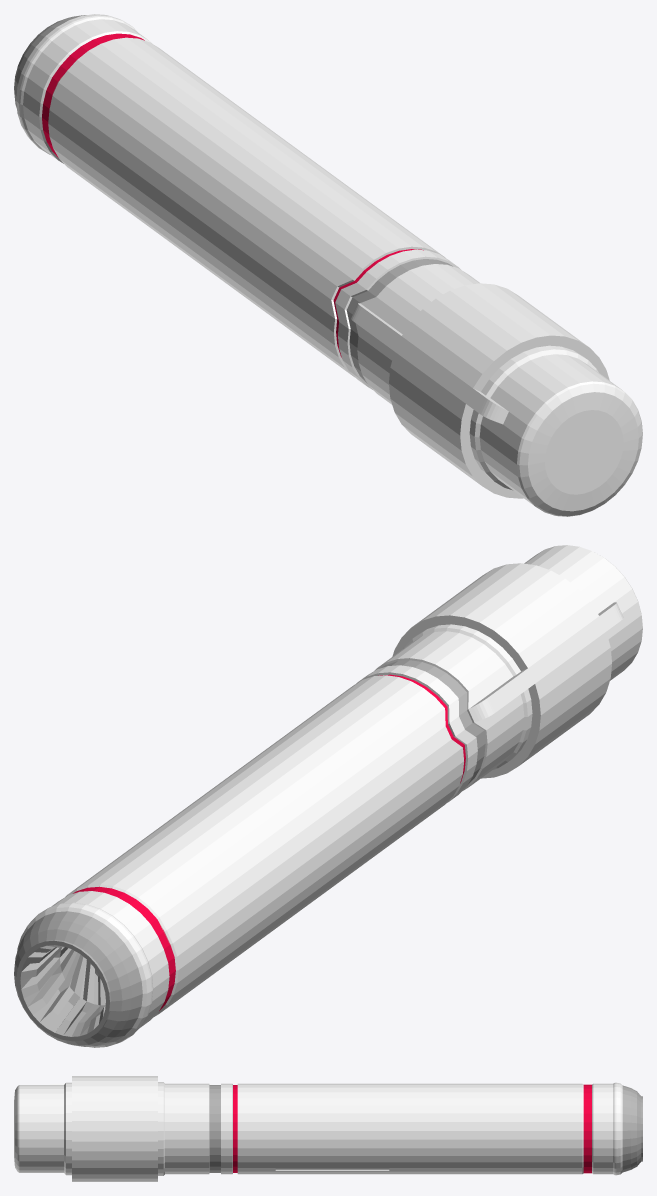
Rendered from beamsarbel.fbx.
3 views of the same model, one above another, from view 1: azimuth 30°, elevation 25°; view 2: azimuth 150°, elevation 25°; view 3: azimuth 270°, elevation 25° (orthographic). The views are drawn at different scales.
Visible parts, largest first — view 1: 円柱; view 2: 円柱; view 3: 円柱.
Boxes of the visible parts, x1,y1,x2,y2 form: 円柱: [14, 14, 642, 516]; 円柱: [14, 545, 642, 1047]; 円柱: [14, 1076, 642, 1181].
Size of the model in its own units: 44.81 by 44.81 by 266.
